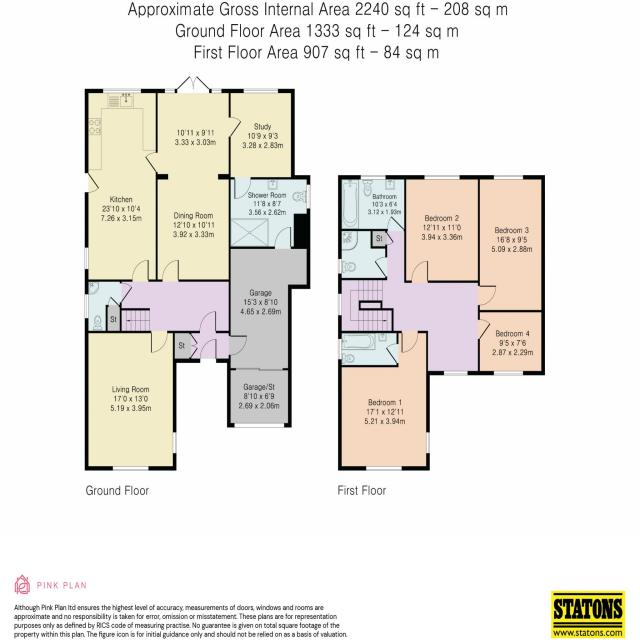DOOR: (199, 338, 217, 363), (477, 285, 497, 307), (199, 310, 217, 334), (234, 176, 252, 200), (151, 330, 169, 353), (274, 226, 292, 249), (401, 330, 419, 353), (411, 260, 429, 283), (228, 335, 247, 356), (132, 260, 149, 282), (162, 260, 179, 282), (119, 282, 133, 304), (228, 116, 242, 138), (387, 215, 405, 232), (144, 152, 158, 173), (374, 256, 388, 277), (385, 343, 399, 364), (477, 319, 491, 340)
DOUBLE DOOR: (174, 75, 212, 99)
ROOM: (144, 76, 242, 282), (84, 88, 158, 282), (84, 330, 177, 471), (338, 330, 430, 471), (477, 174, 545, 312), (404, 175, 480, 283), (228, 89, 295, 200), (477, 310, 545, 376), (85, 173, 100, 194)
WINDOW: (234, 422, 285, 428), (103, 88, 141, 94), (243, 88, 279, 94), (493, 370, 524, 376), (112, 466, 149, 471), (366, 466, 402, 471), (424, 175, 460, 180), (493, 175, 524, 180), (443, 370, 468, 376), (360, 175, 386, 180), (84, 294, 89, 319), (306, 184, 311, 209), (84, 247, 89, 270), (172, 432, 177, 454), (338, 293, 342, 316), (426, 431, 430, 454), (338, 338, 342, 360), (164, 88, 176, 94), (338, 258, 342, 275), (211, 88, 222, 94)
